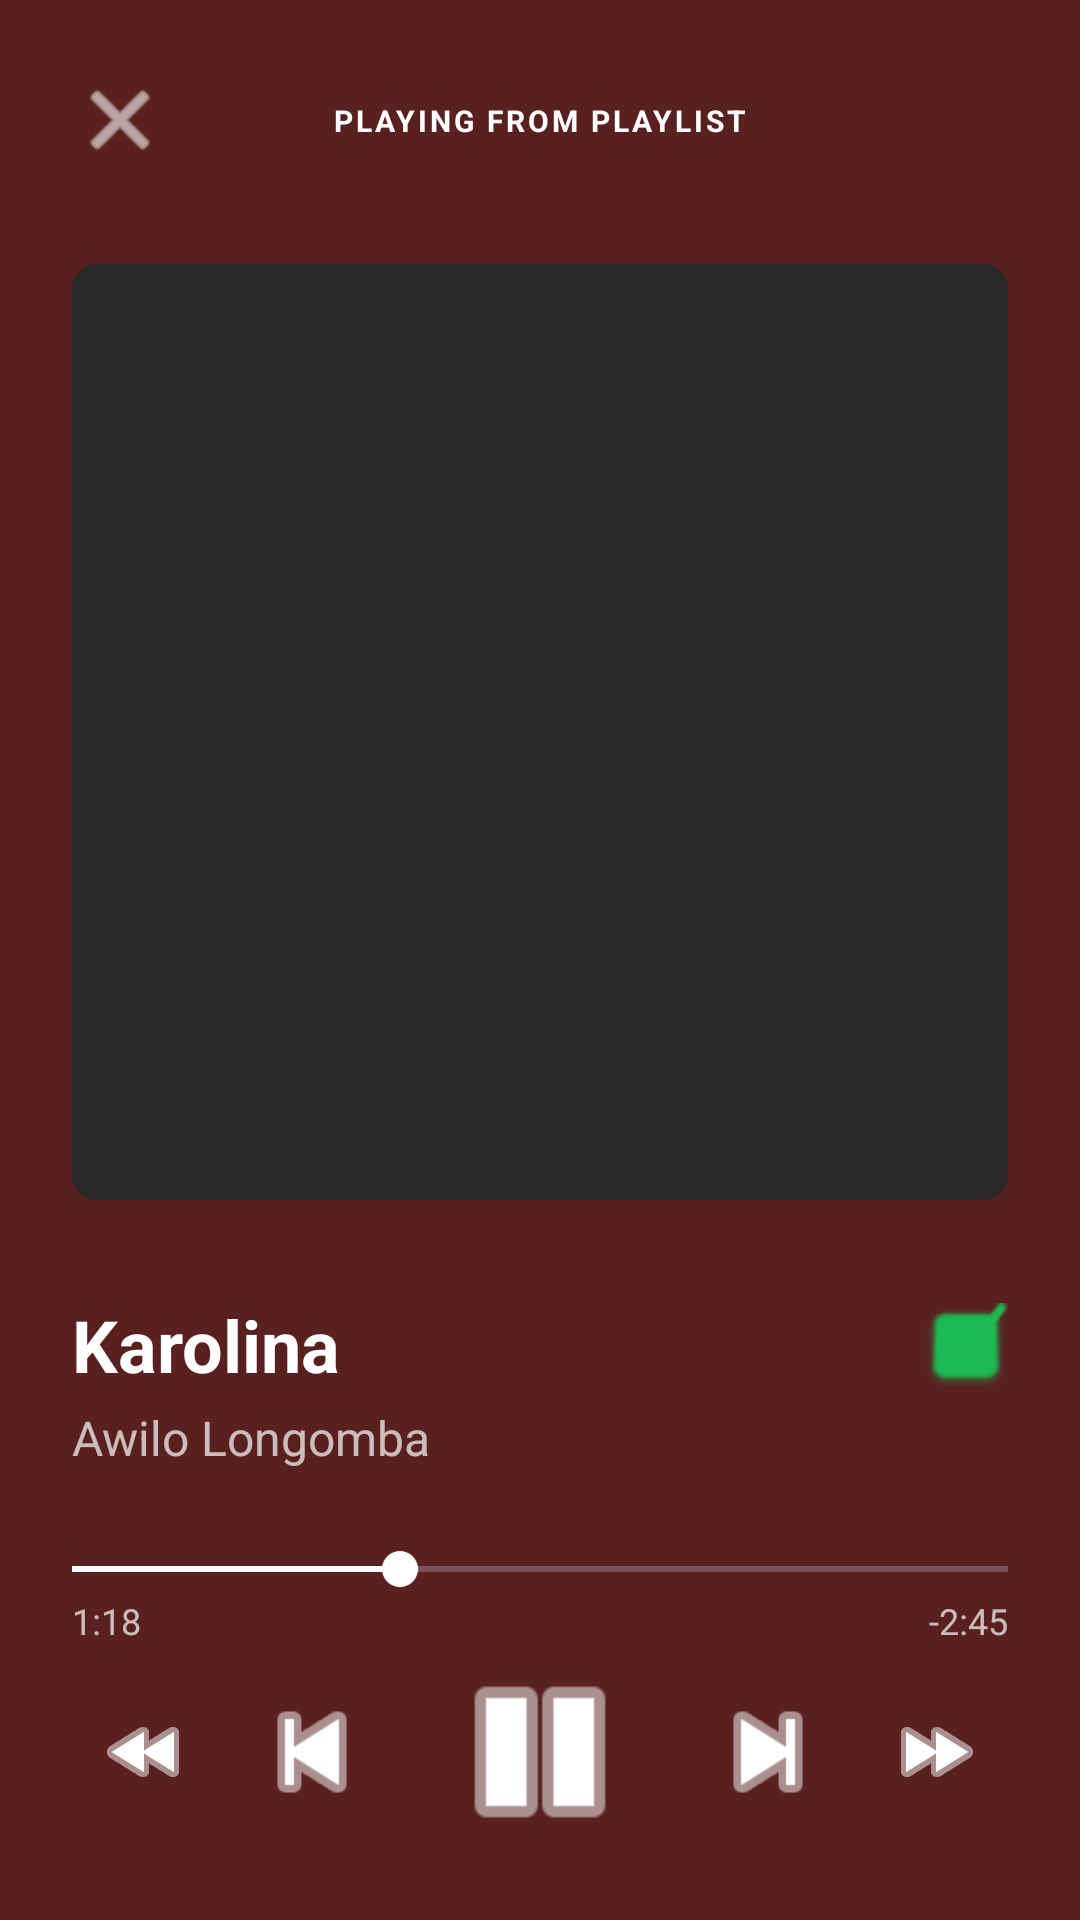

Named icons in this screenshot (1080w x 1920h) and their centers, (x=x, y=y):
close clear cancel: (x=120, y=120)
next: (x=768, y=1752)
pause: (x=540, y=1752)
previous: (x=312, y=1752)
rew: (x=143, y=1752)
